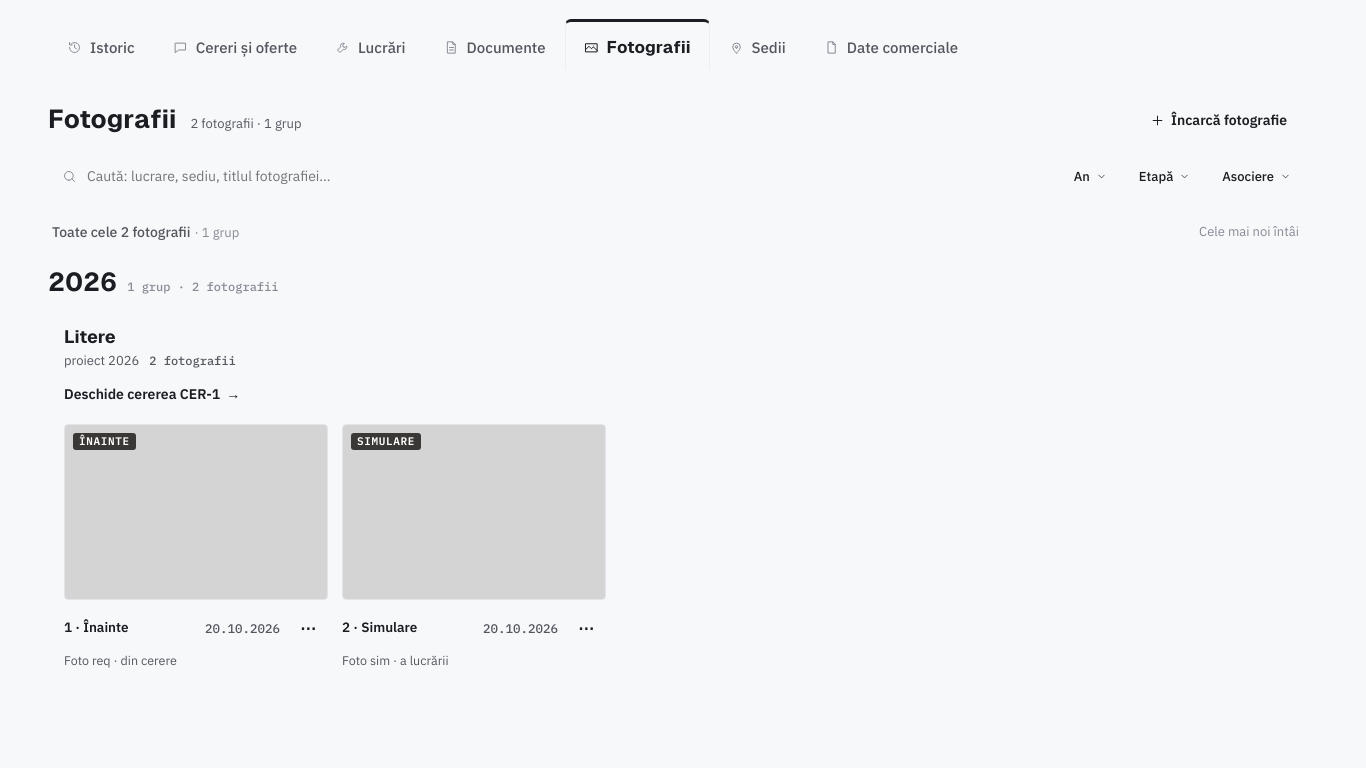
Test case: Fotografia reprezentativă a lucrării (N-021) › on a conflict saves nothing, reads the current choice and keeps the chosen work
(page scrolled)
Click the button named "Acțiuni pentru Foto sim" at x=586, y=628, box [566, 608, 606, 648]
(page scrolled)
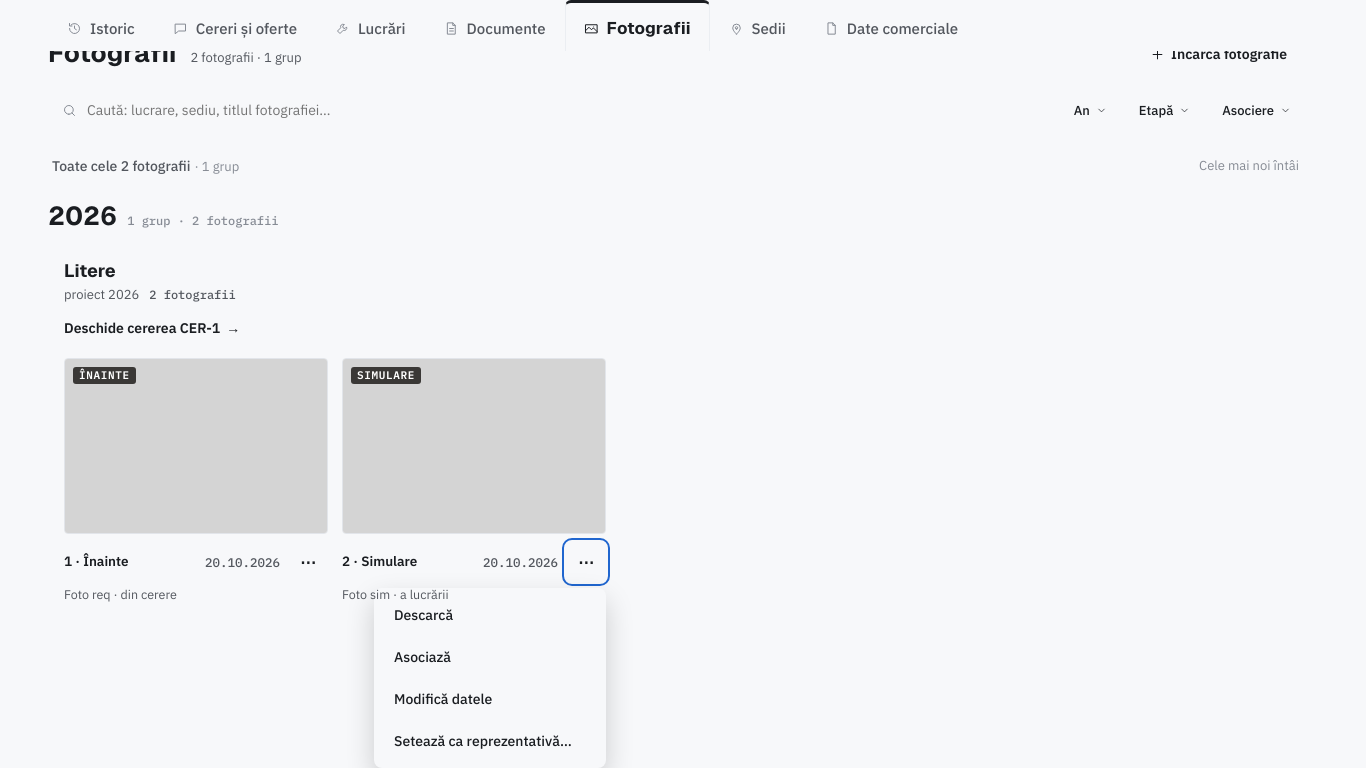
Click the button "Setează ca reprezentativă…" at x=490, y=741, box [380, 720, 600, 762]
(page scrolled)
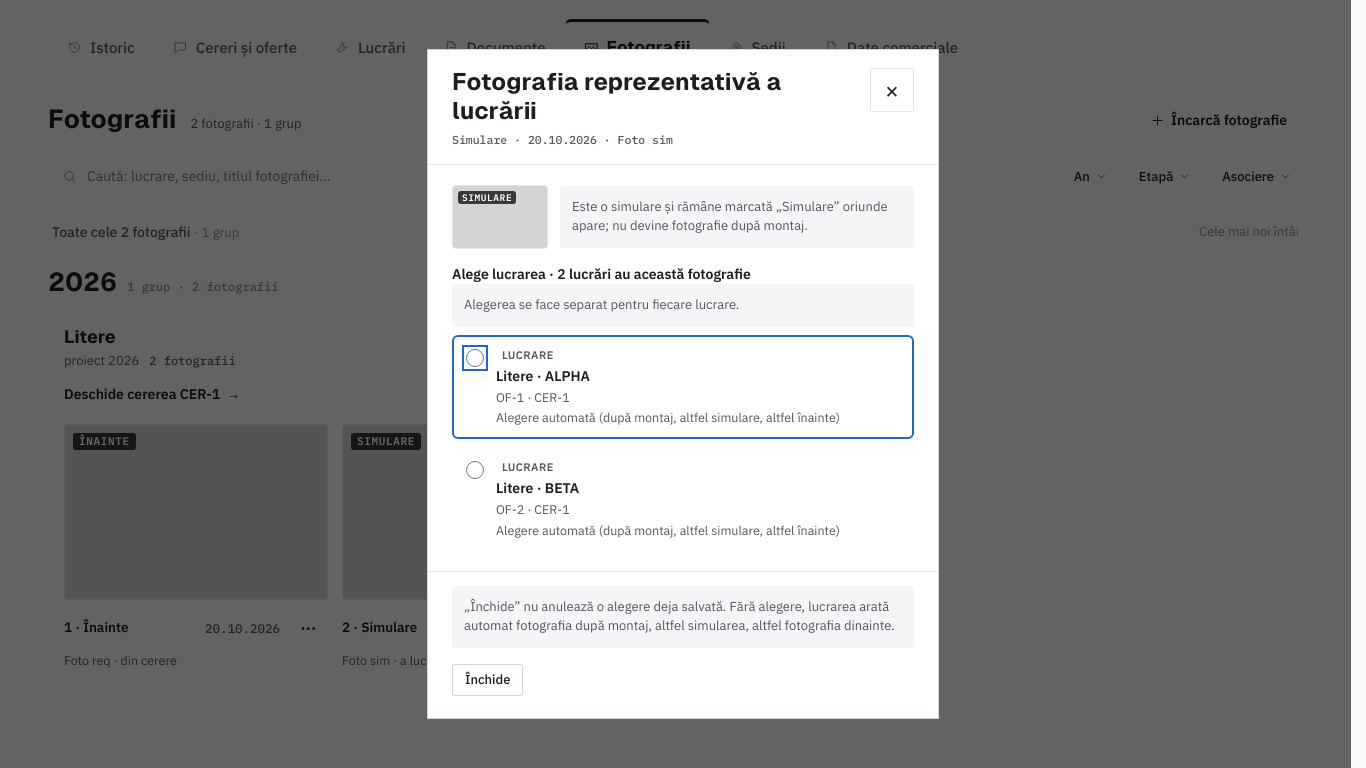
Click the radio button labelled "Litere · ALPHA" at x=475, y=358, box [466, 349, 484, 367]
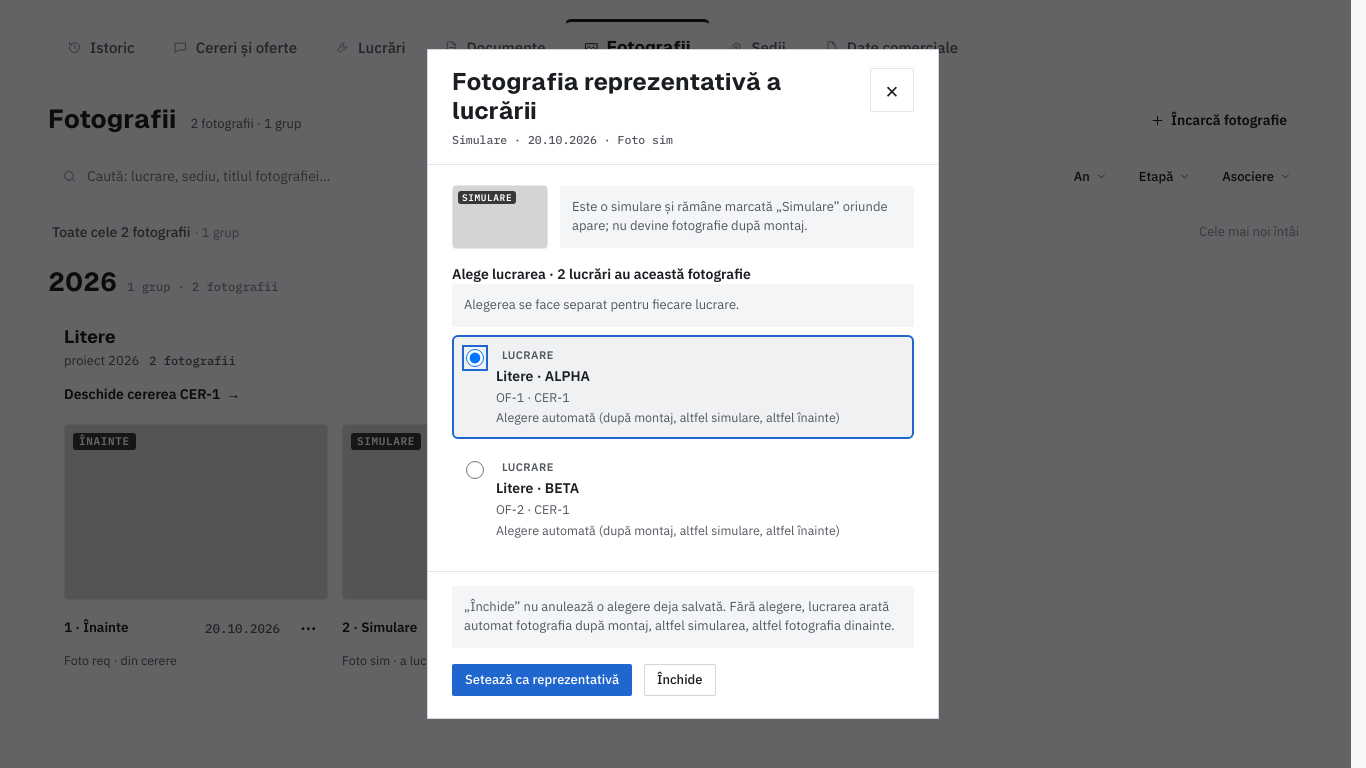
Click the button "Setează ca reprezentativă" at x=542, y=680, box [452, 658, 632, 702]
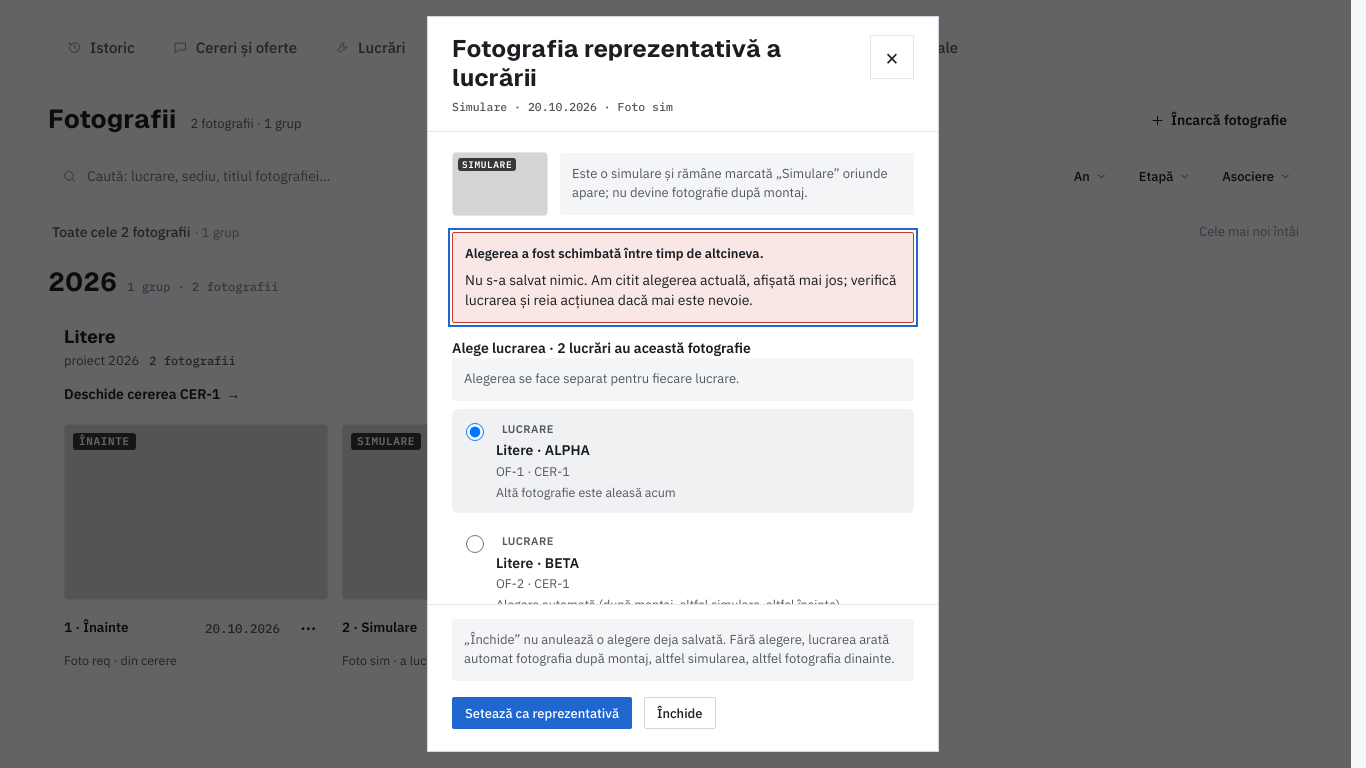
Expected: the text "Alegerea a fost schimbată între timp de altcineva." is shown, [465, 245, 764, 262]
Expected: the message shows "Nu s-a salvat nimic", [465, 270, 896, 309]
Expected: the text "Altă fotografie este aleasă acum" is shown, [496, 484, 676, 500]
Click the button "Setează ca reprezentativă" at x=542, y=713, box [452, 691, 632, 735]
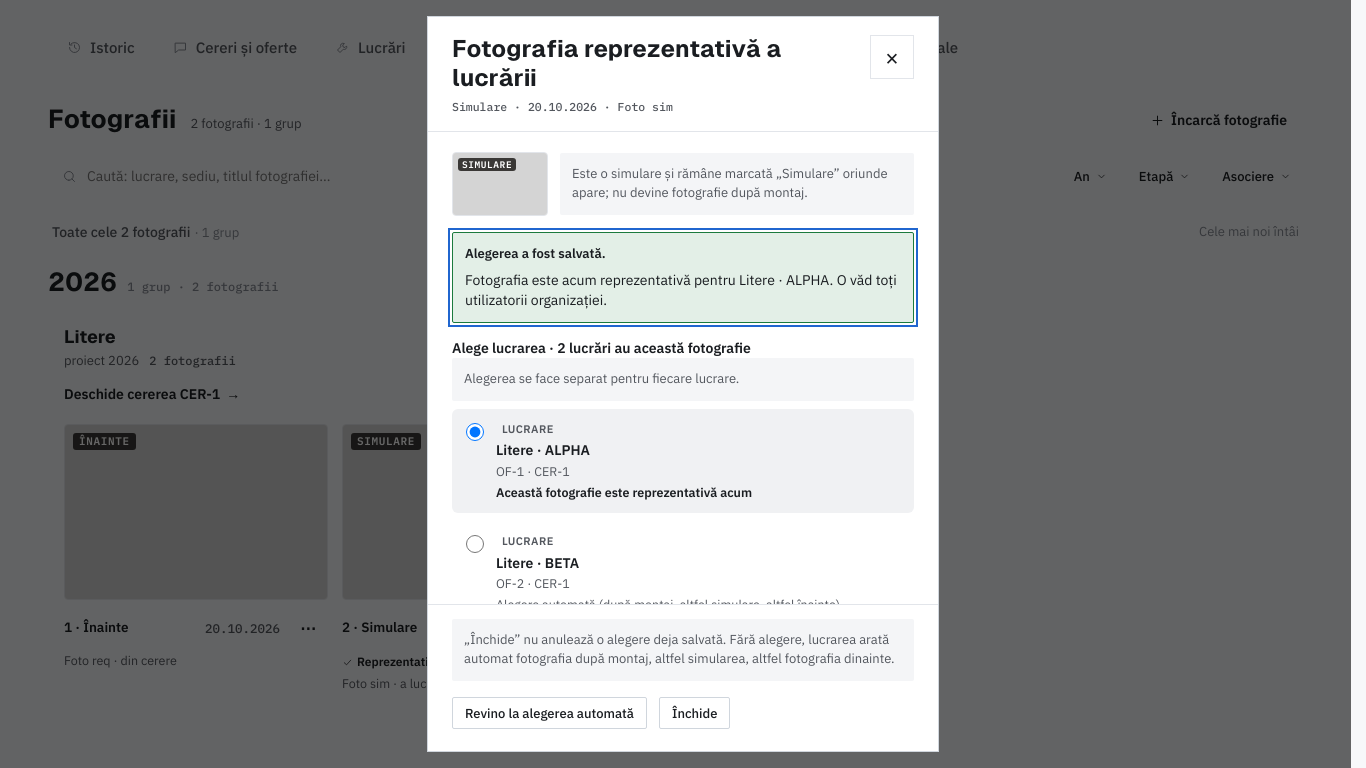
Expected: the text "Alegerea a fost salvată." is shown, [465, 245, 606, 262]
